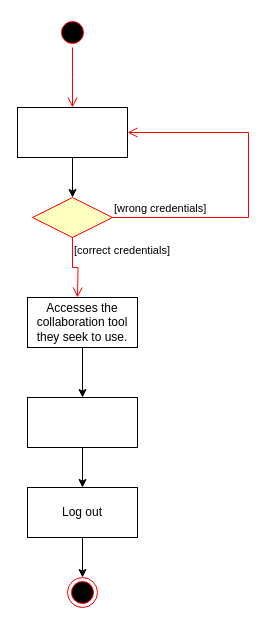
The diagram is 276 pixels wide and 625 high, and some of its shapes have lost their labels. Here are the shapes that lost their labels. From the top down, the centre of each, then its label:
the point at 72,132: HCP logs in
the point at 82,422: They share/recieve relevant information/ documentation
